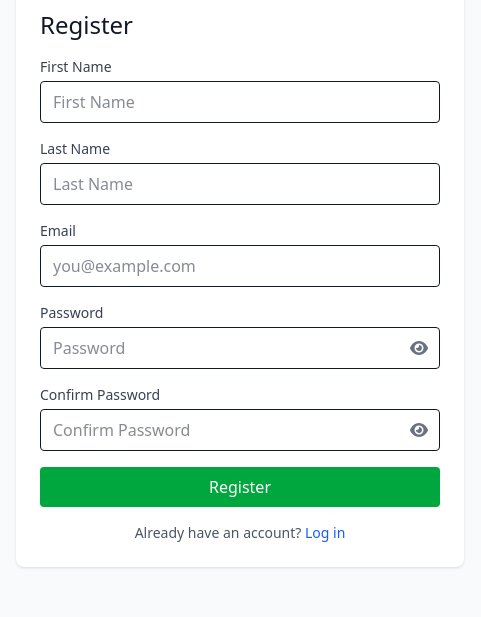
Test: RegisterForm component › shows error on invalid email
Type "Jane" into the field with placeholder "First Name".
click(240, 102); type("Jane")  # box [40,81,440,123]
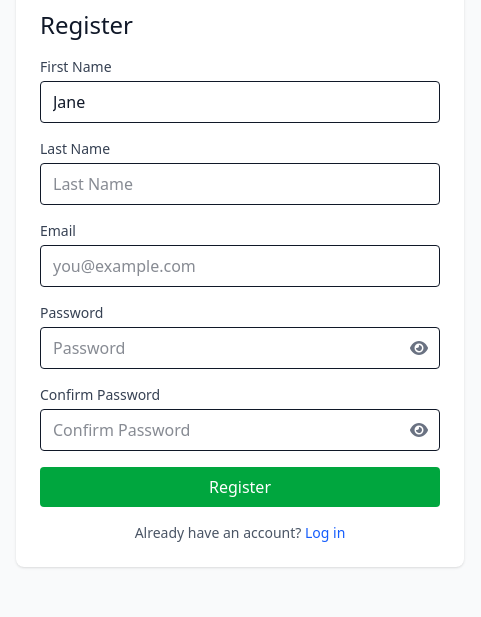
Type "Doe" into the field with placeholder "Last Name".
click(240, 184); type("Doe")  # box [40,163,440,205]
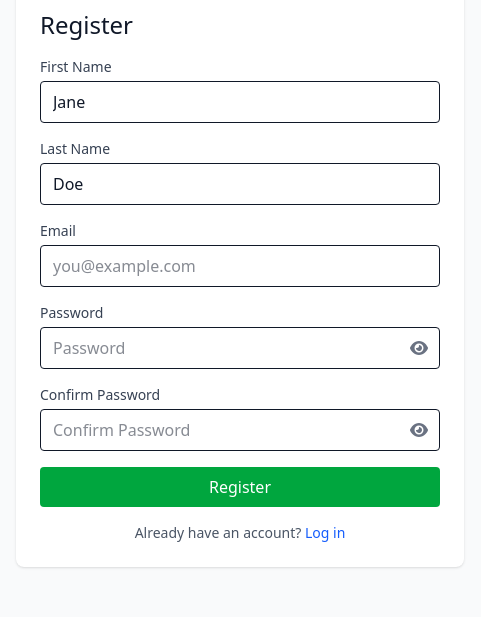
Type "not-an-email" into the field with placeholder "you@example.com".
click(240, 266); type("not-an-email")  # box [40,245,440,287]
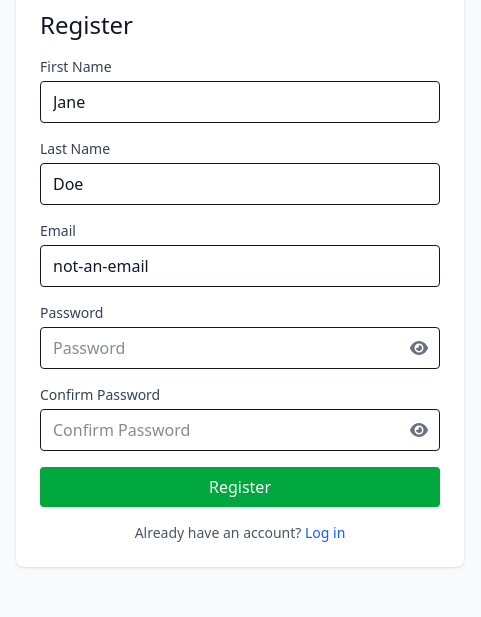
Click the button "Register".
click(240, 487)  # box [40,467,440,507]
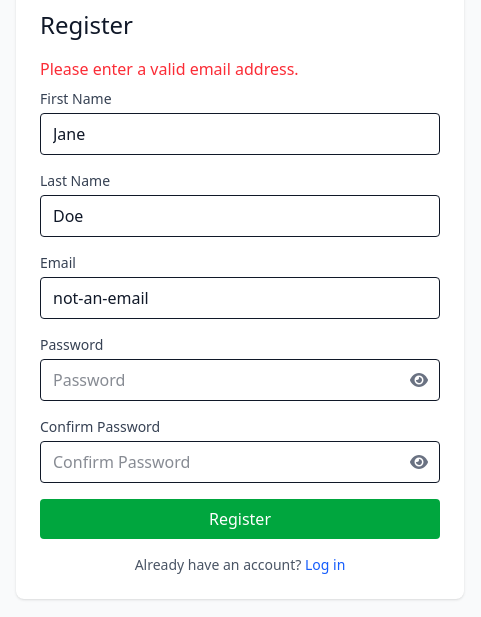
Check: the text "Please enter a valid email address." is shown, box [40,58,299,80]
